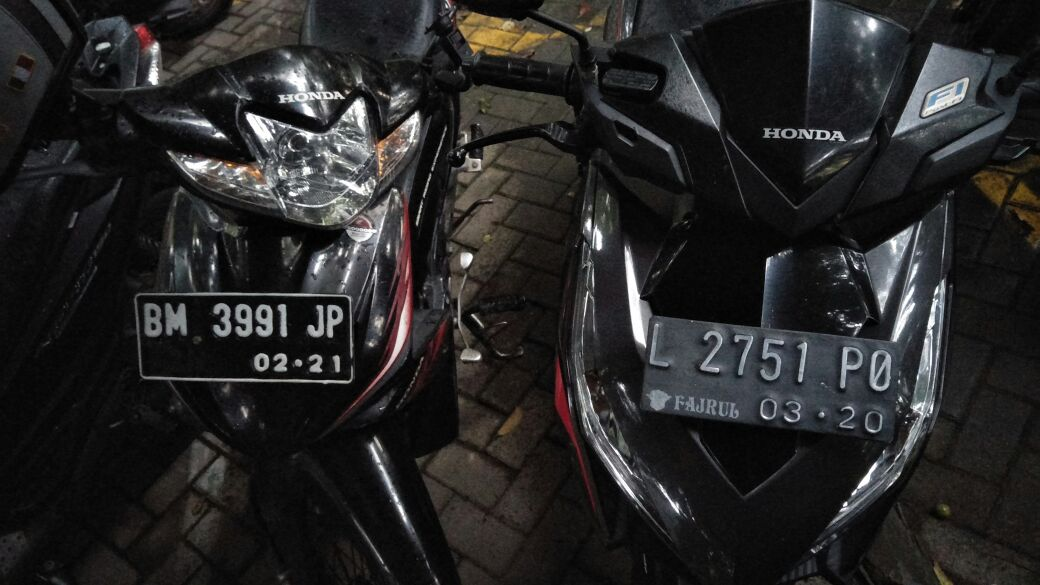plate: (642, 315, 899, 441), (134, 293, 355, 387)
